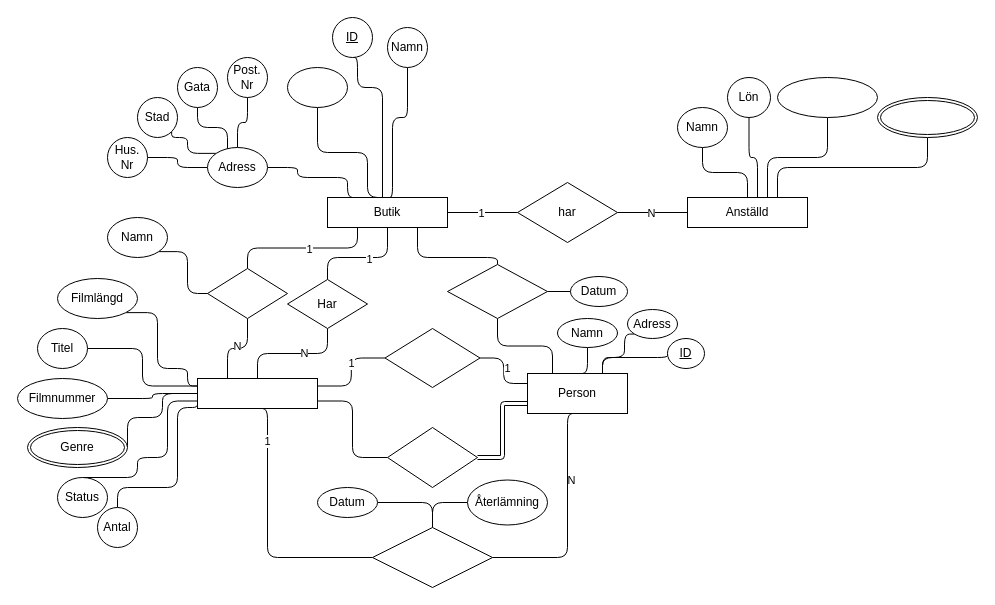
Some shapes in this 995 by 605 pixel diagram are drawn without their labels. The centre of each missing label's shape, as x and y in pixels:
"Anställnings. Nr" goes at (827,97).
"Erbjuds_Till" goes at (432,358).
"Film" goes at (257,393).
"Hylla" goes at (247,293).
"Medlemskap" goes at (497,291).
"Roll" goes at (927,117).
"Telefon Nr." goes at (317,87).
"Uthyrning" goes at (432,557).
"Är_Medlem" goes at (432,457).
